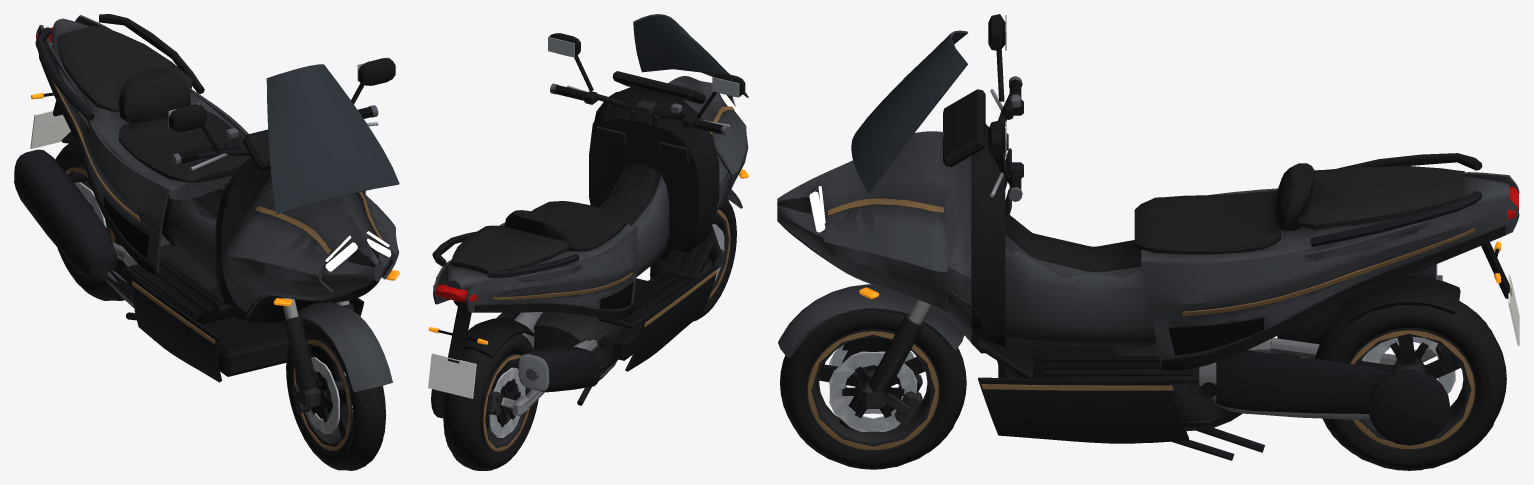
The model's file is bike14_tmax.glb.
3 renders of one model, left to right at view 1: azimuth 30°, elevation 25°; view 2: azimuth 150°, elevation 25°; view 3: azimuth 270°, elevation 25°, orthographic. The views are drawn at different scales.
Parts seen in each view (by area): view 1: body (×2), wheel_front (×2), handlebar (×2), wheel_rear (×2), fork_right, disc_front (×2), headlight; view 2: body (×2), wheel_rear (×2), handlebar (×2), wheel_front (×2), disc_rear (×2), fork_right, brake_light; view 3: body (×2), wheel_rear (×2), wheel_front (×2), disc_front (×2), handlebar (×2), fork_left, disc_rear.
Part boxes in pixels (box(x1,y1,x2,y2)): body (×2): box(14, 14, 399, 392); wheel_front (×2): box(286, 319, 386, 470); handlebar (×2): box(168, 57, 395, 170); wheel_rear (×2): box(55, 143, 134, 300); fork_right: box(282, 297, 321, 412); disc_front (×2): box(307, 357, 352, 433); headlight: box(325, 231, 391, 271); body (×2): box(428, 14, 748, 418); wheel_rear (×2): box(443, 334, 538, 470); handlebar (×2): box(548, 33, 745, 135); wheel_front (×2): box(650, 198, 736, 320); disc_rear (×2): box(489, 367, 525, 437); fork_right: box(698, 225, 724, 276); brake_light: box(433, 284, 476, 302); body (×2): box(777, 30, 1519, 460); wheel_rear (×2): box(1315, 301, 1506, 470); wheel_front (×2): box(780, 310, 966, 469); disc_front (×2): box(829, 345, 917, 431); handlebar (×2): box(988, 14, 1023, 201); fork_left: box(862, 300, 930, 425); disc_rear: box(1365, 336, 1454, 393).
Size of the model in its own units: 0.877 by 1.4 by 2.18.
